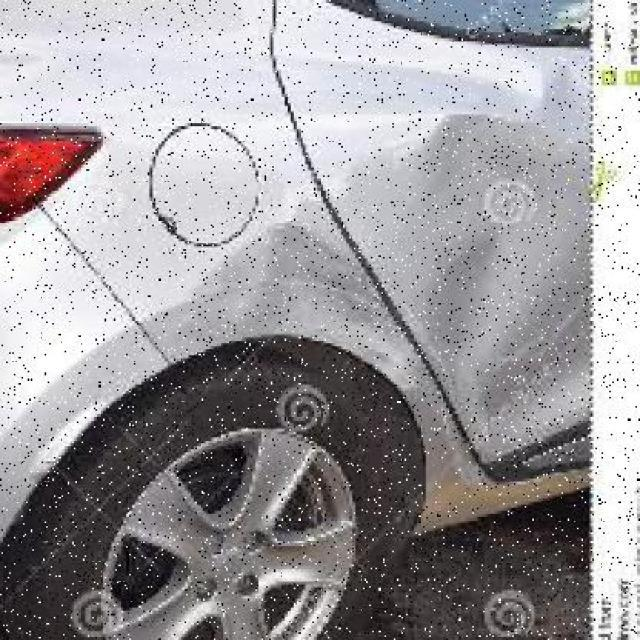car damage: (405, 122, 602, 462), (188, 214, 434, 388)
